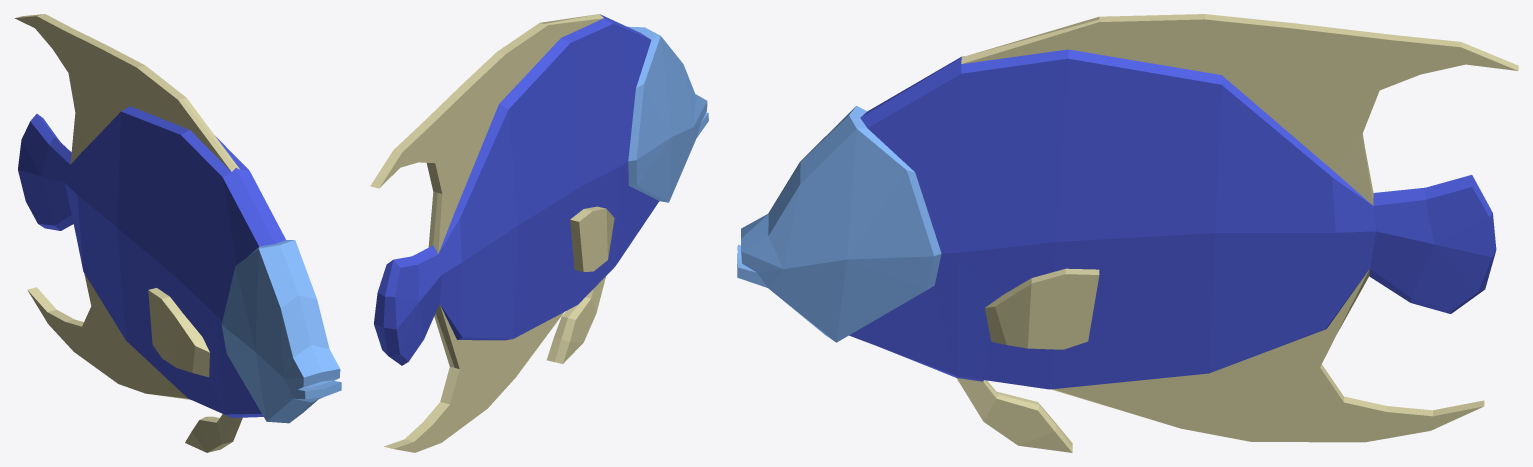
Rendered from Fish2.fbx.
3 views of the same model, side by side, from view 1: azimuth 30°, elevation 25°; view 2: azimuth 150°, elevation 25°; view 3: azimuth 270°, elevation 25° (orthographic). The views are drawn at different scales.
Visible parts, largest first — view 1: Fish2; view 2: Fish2; view 3: Fish2.
Part boxes in pixels (bbox=[...]): Fish2: bbox=[14, 14, 341, 452]; Fish2: bbox=[370, 14, 708, 452]; Fish2: bbox=[737, 14, 1518, 452].
Size of the model in its own units: 25.75 by 122 by 200.
